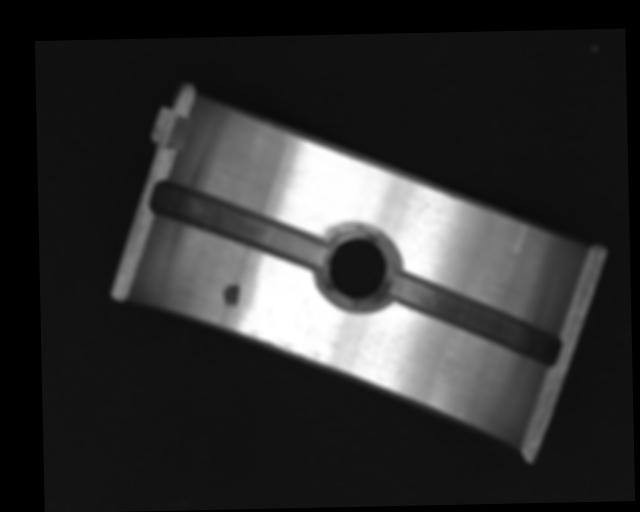blot: (221, 280, 240, 308)
gap: (388, 267, 563, 368), (152, 177, 324, 275)
hole: (322, 223, 393, 306)
